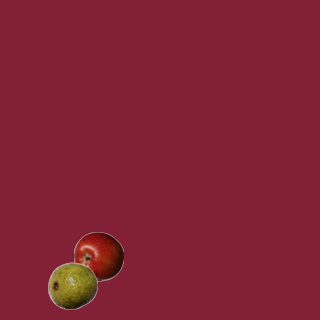Apple Braeburn: (73, 231, 123, 281)
Guava: (47, 260, 97, 310)
